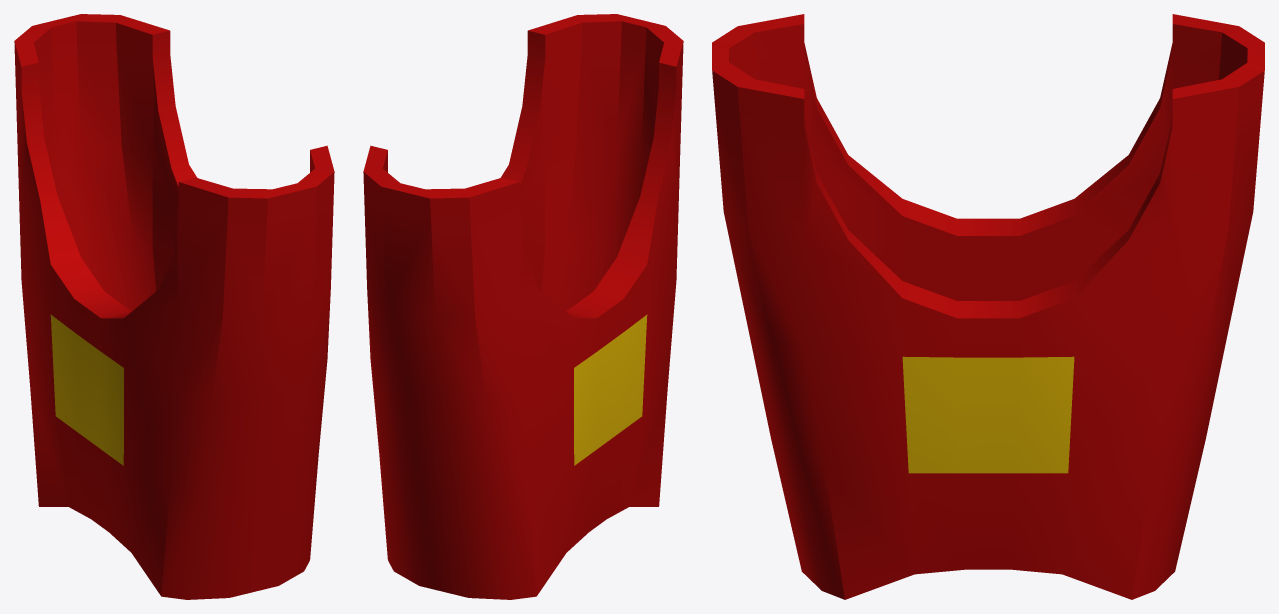
File: Packaging_03.glb
The picture shows the model from 3 angles, left to right: view 1: azimuth 30°, elevation 25°; view 2: azimuth 150°, elevation 25°; view 3: azimuth 270°, elevation 25°; orthographic projection. The views are drawn at different scales.
Parts seen in each view (by area): view 1: Mesh_Packaging_03; view 2: Mesh_Packaging_03; view 3: Mesh_Packaging_03.
Boxes of the visible parts, bbox=[...] form: Mesh_Packaging_03: bbox=[14, 14, 334, 599]; Mesh_Packaging_03: bbox=[363, 14, 683, 599]; Mesh_Packaging_03: bbox=[712, 14, 1264, 599].
Size of the model in its own units: 0.0299 by 0.0702 by 0.07.
1 material, 1 textured.
